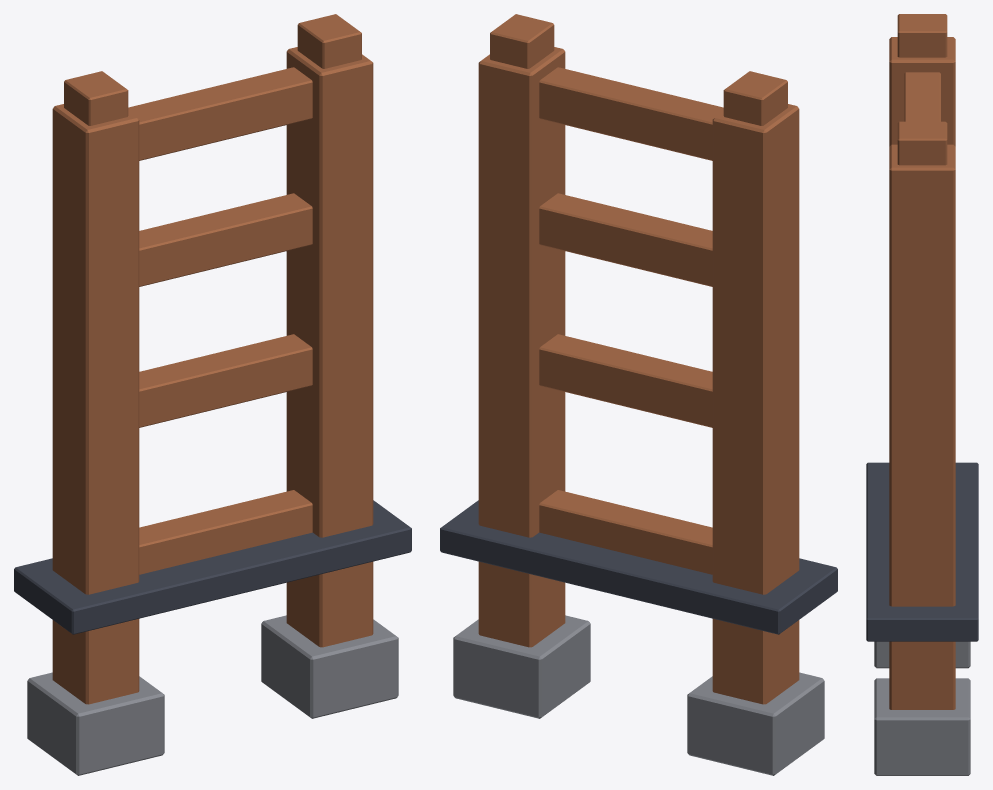
Rendered from Stylized_Landmark_GoldenGateTower.fbx.
3 views of the same model, side by side, from view 1: azimuth 30°, elevation 25°; view 2: azimuth 150°, elevation 25°; view 3: azimuth 270°, elevation 25° (orthographic). The views are drawn at different scales.
Parts seen in each view (by area): view 1: Stylized_Landmark_GoldenGateTower; view 2: Stylized_Landmark_GoldenGateTower; view 3: Stylized_Landmark_GoldenGateTower.
Boxes of the visible parts, x1=… form: Stylized_Landmark_GoldenGateTower: x1=14, y1=14, x2=411, y2=775; Stylized_Landmark_GoldenGateTower: x1=440, y1=14, x2=837, y2=775; Stylized_Landmark_GoldenGateTower: x1=866, y1=14, x2=978, y2=775.
Size of the model in its own units: 4.8 by 8.95 by 1.45.
